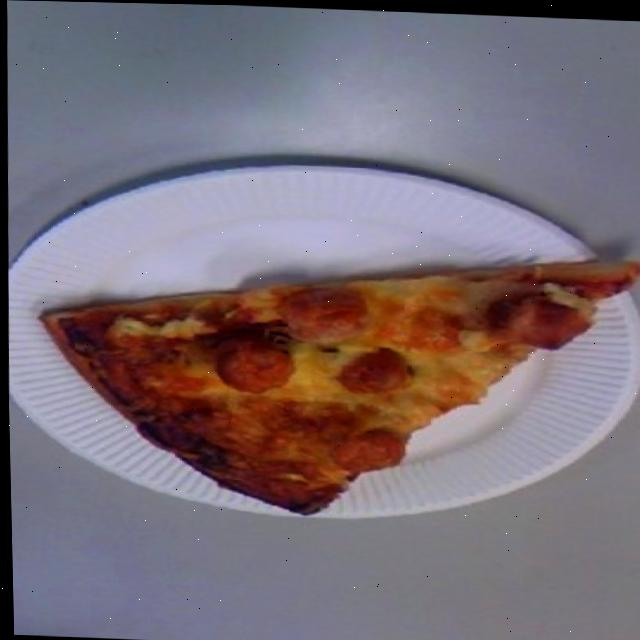汉堡快餐: (3, 151, 640, 536)
